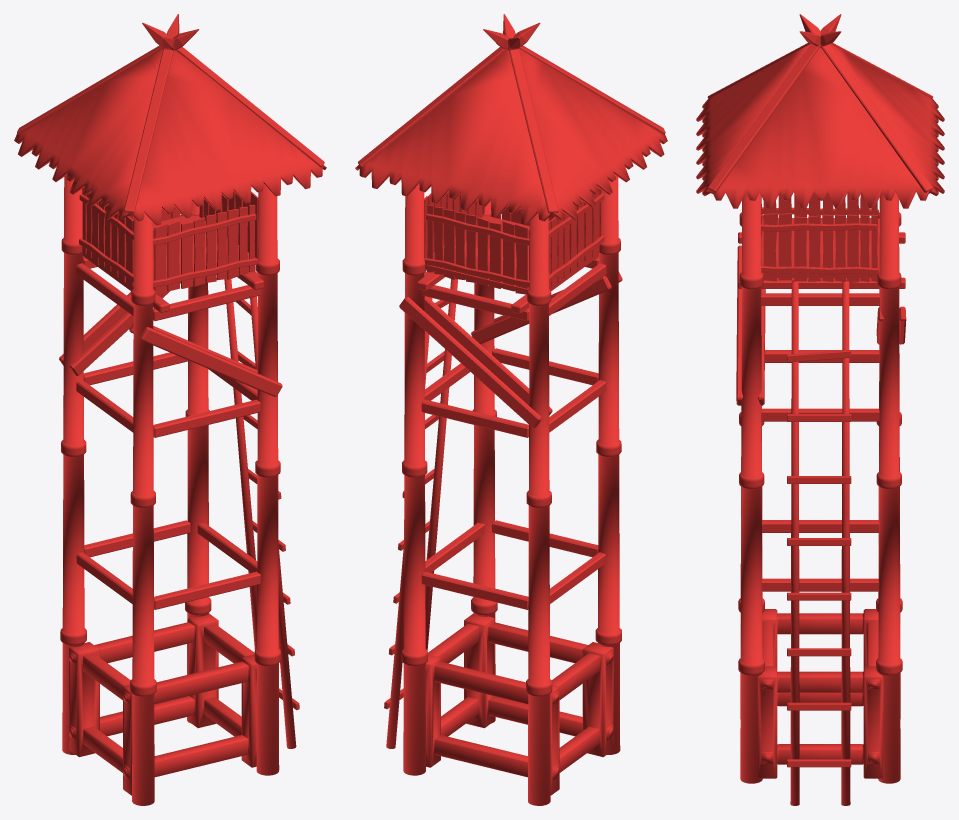
The model's file is tower_test.fbx.
3 renders of one model, left to right at view 1: azimuth 30°, elevation 25°; view 2: azimuth 150°, elevation 25°; view 3: azimuth 270°, elevation 25°, orthographic.
Visible parts, largest first — view 1: Opora_Low.001, krovly_low.001, Kolonna_low.003, Kolonna_low.002, krovly_low.002, Kolonna_low.005, kabinka_low.002, Kolonna_low.004, balas_low.001, kabinka_low.001, lestnica_low.001, Perekladini_low.011 (+10 smaller); view 2: Opora_Low.001, krovly_low.001, Kolonna_low.005, Kolonna_low.004, krovly_low.002, Kolonna_low.003, kabinka_low.002, Kolonna_low.002, balas_low.001, kabinka_low.001, lestnica_low.001, Perekladini_low.011 (+10 smaller); view 3: krovly_low.002, Kolonna_low.004, Kolonna_low.002, Opora_Low.001, krovly_low.001, kabinka_low.001, lestnica_low.001, balas_low.001, Perekladini_low.005, Perekladini_low.013, pol.001, Perekladini_low.007 (+12 smaller).
Boxes of the visible parts, bbox=[...] form: Opora_Low.001: bbox=[69, 613, 256, 795]; krovly_low.001: bbox=[131, 50, 322, 225]; Kolonna_low.003: bbox=[130, 213, 156, 805]; Kolonna_low.002: bbox=[254, 184, 280, 775]; krovly_low.002: bbox=[14, 49, 326, 219]; Kolonna_low.005: bbox=[60, 175, 86, 754]; kabinka_low.002: bbox=[129, 204, 257, 294]; Kolonna_low.004: bbox=[185, 201, 211, 723]; balas_low.001: bbox=[17, 14, 324, 216]; kabinka_low.001: bbox=[79, 188, 258, 288]; lestnica_low.001: bbox=[224, 279, 296, 748]; Perekladini_low.011: bbox=[84, 520, 260, 609]; Opora_Low.001: bbox=[425, 613, 613, 795]; krovly_low.001: bbox=[359, 50, 550, 225]; Kolonna_low.005: bbox=[526, 214, 552, 805]; Kolonna_low.004: bbox=[401, 184, 427, 775]; krovly_low.002: bbox=[355, 49, 667, 220]; Kolonna_low.003: bbox=[595, 175, 621, 754]; kabinka_low.002: bbox=[424, 205, 554, 294]; Kolonna_low.002: bbox=[471, 202, 497, 723]; balas_low.001: bbox=[358, 14, 665, 216]; kabinka_low.001: bbox=[424, 188, 604, 288]; lestnica_low.001: bbox=[386, 279, 457, 748]; Perekladini_low.011: bbox=[421, 520, 598, 609]; krovly_low.002: bbox=[712, 47, 929, 208]; Kolonna_low.004: bbox=[876, 192, 902, 783]; Kolonna_low.002: bbox=[738, 192, 764, 783]; Opora_Low.001: bbox=[757, 609, 883, 778]; krovly_low.001: bbox=[696, 44, 944, 195]; kabinka_low.001: bbox=[761, 192, 878, 282]; lestnica_low.001: bbox=[790, 280, 850, 805]; balas_low.001: bbox=[707, 14, 933, 193]; Perekladini_low.005: bbox=[761, 520, 879, 591]; Perekladini_low.013: bbox=[761, 350, 879, 421]; pol.001: bbox=[761, 218, 879, 277]; Perekladini_low.007: bbox=[761, 293, 879, 305].
Bounding box in the file's own units: 364 × 1163 × 358.
